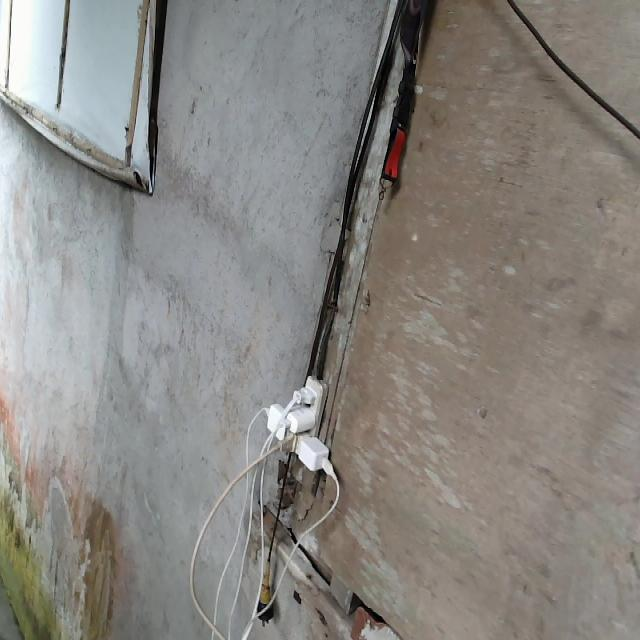-: (257, 372, 343, 481)
